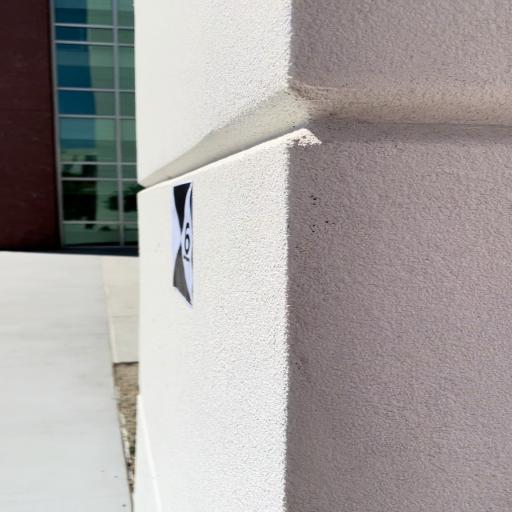target6: (168, 181, 196, 305)
